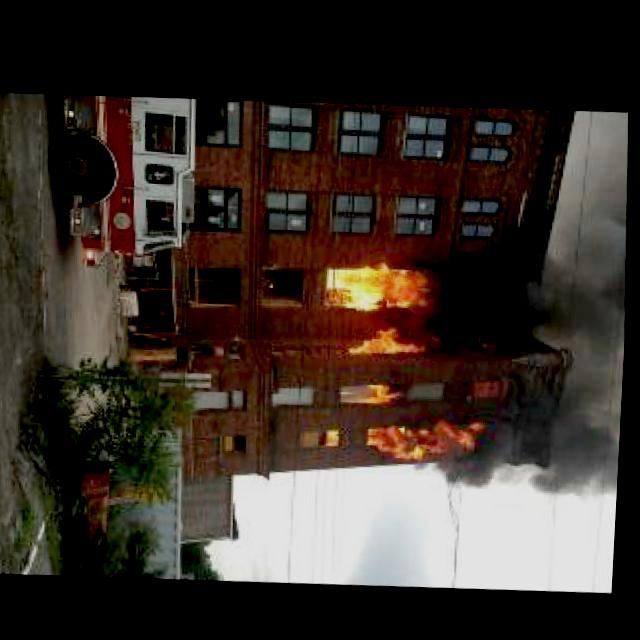Fire: (318, 236, 490, 469)
Smoke: (442, 179, 634, 515)
